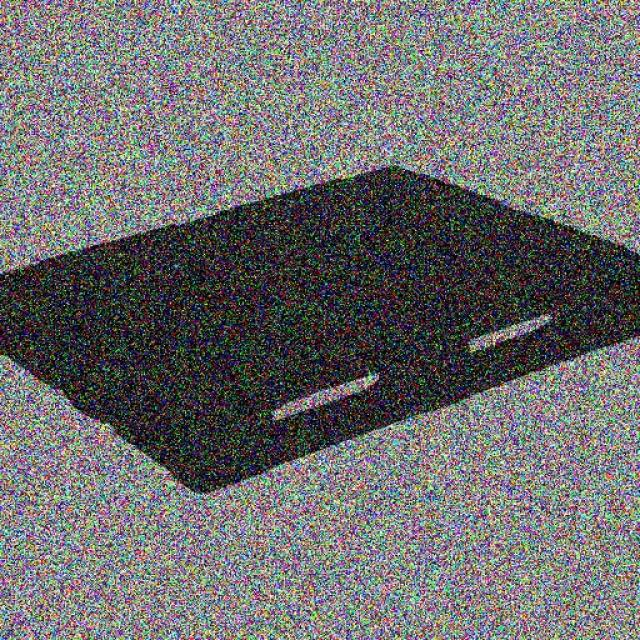non-igps: (0, 155, 640, 503)
